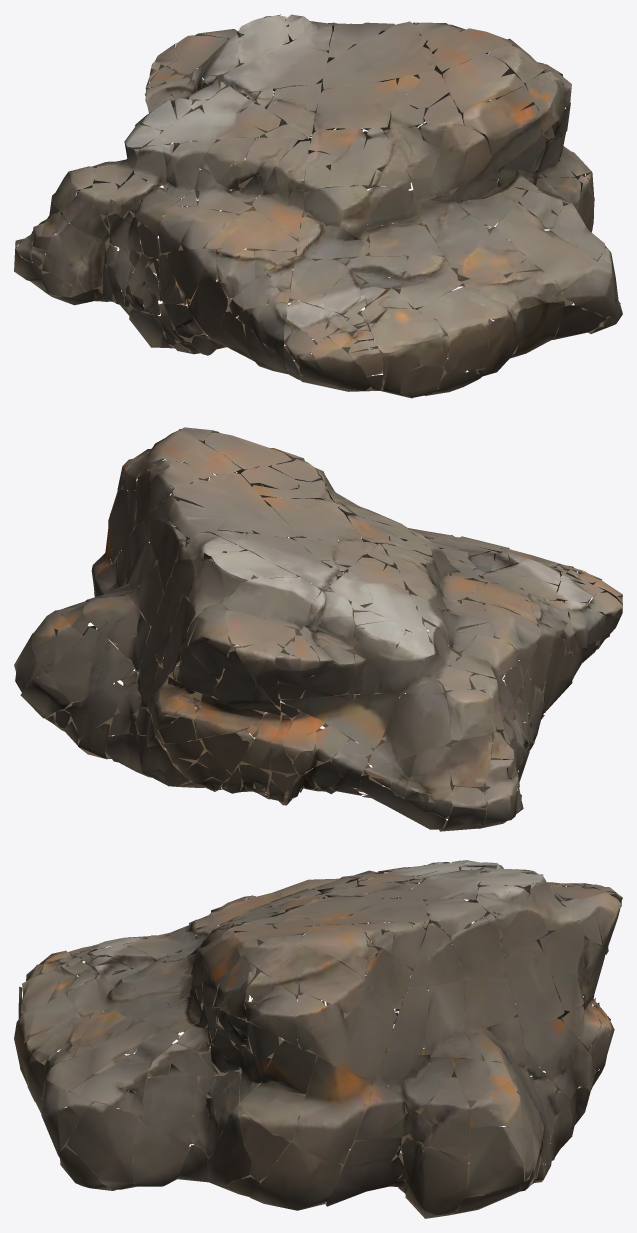
The model's file is stone-formation.glb.
The picture shows the model from 3 angles, top to bottom: view 1: azimuth 30°, elevation 25°; view 2: azimuth 150°, elevation 25°; view 3: azimuth 270°, elevation 25°; orthographic projection. The views are drawn at different scales.
Parts seen in each view (by area): view 1: Mesh_0; view 2: Mesh_0; view 3: Mesh_0.
Part boxes in pixels (bbox=[...]): Mesh_0: bbox=[14, 14, 622, 398]; Mesh_0: bbox=[14, 427, 622, 831]; Mesh_0: bbox=[14, 860, 622, 1218].
Size of the model in its own units: 3 by 1.44 by 2.9.
Materials: 1 (1 with a texture image).
